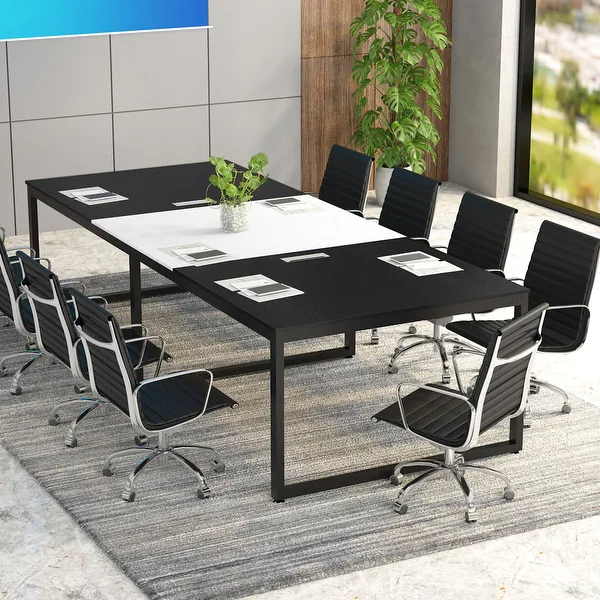conference_table: (26, 159, 526, 503)
